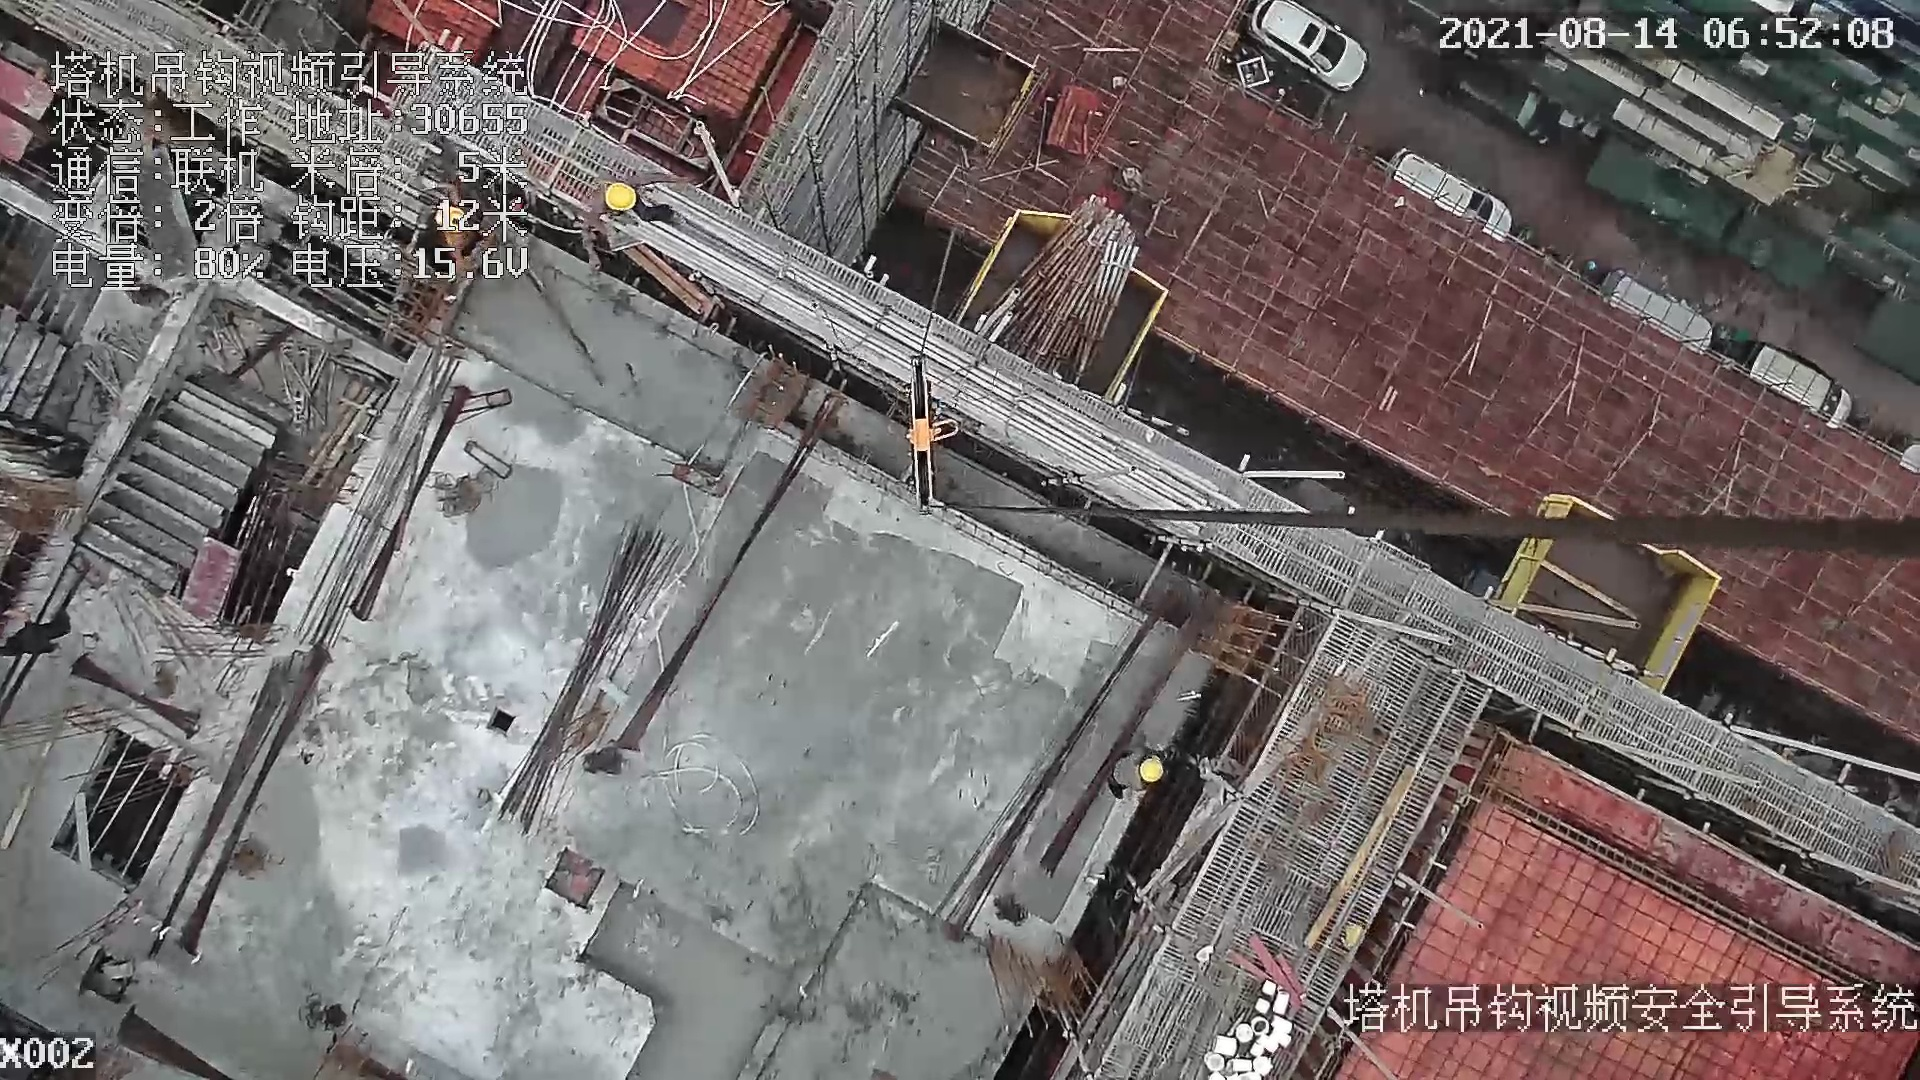helmet: (604, 183, 636, 211), (1140, 759, 1163, 782)
hook: (905, 354, 968, 508)
person: (578, 165, 701, 241), (1099, 739, 1170, 805)
rebar: (594, 186, 1232, 534), (497, 522, 683, 833)
scaffold: (982, 197, 1136, 387)
